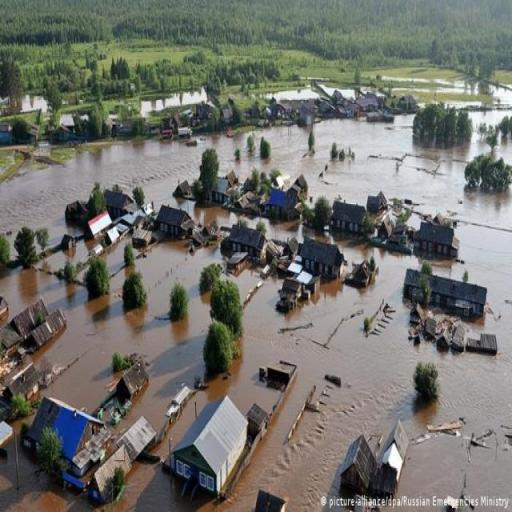flood: (0, 114, 512, 512), (0, 243, 222, 425), (0, 445, 212, 512), (383, 430, 512, 512), (225, 264, 284, 308), (0, 143, 60, 183), (383, 76, 493, 95), (139, 87, 208, 117), (237, 218, 303, 246), (45, 241, 97, 272), (101, 234, 131, 273), (265, 87, 320, 101), (473, 111, 512, 127), (318, 83, 356, 99), (22, 94, 47, 112), (496, 140, 512, 164), (494, 87, 512, 104), (447, 102, 481, 107)
house: (170, 390, 251, 502), (27, 396, 99, 470), (336, 431, 388, 507), (8, 299, 66, 348), (433, 272, 486, 320), (301, 232, 341, 284), (277, 268, 320, 308), (226, 223, 265, 263), (416, 220, 455, 259), (117, 358, 153, 396), (330, 199, 368, 233), (268, 180, 300, 220), (154, 204, 190, 238), (388, 420, 416, 460), (402, 268, 428, 306), (87, 208, 112, 242), (107, 189, 135, 213), (214, 176, 236, 204), (298, 102, 316, 126)
